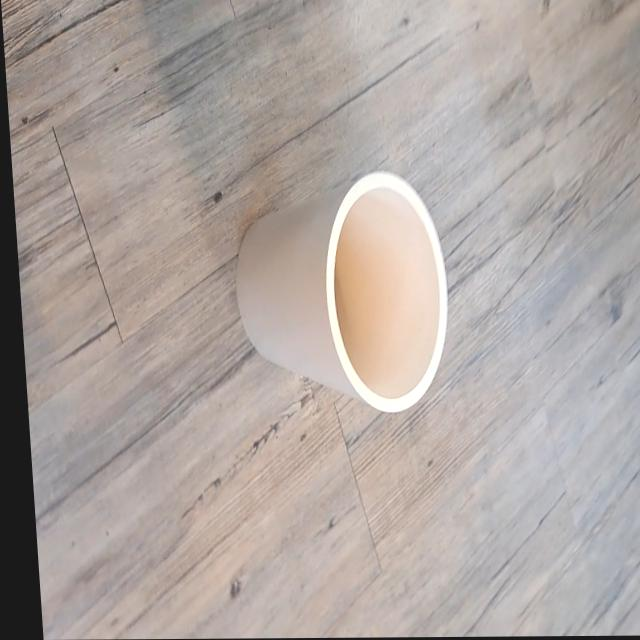CORAL: (208, 136, 475, 481)
